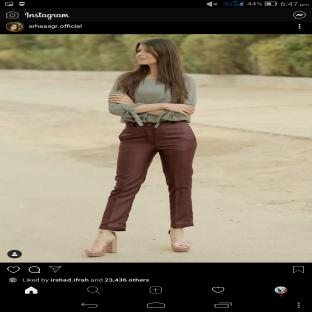Human: (86, 38, 197, 256)
